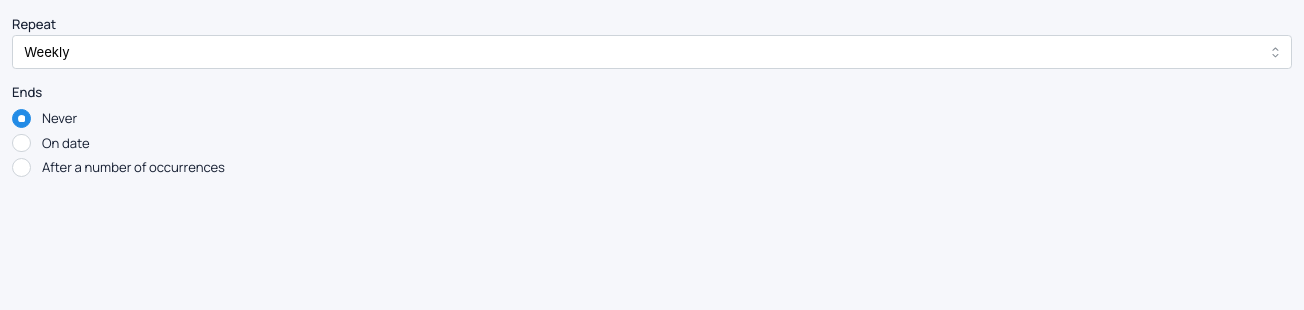
RecurrenceFields › includes Does not repeat by default
This screenshot has width=1304, height=310.
Click the field labelled "Repeat": click(652, 52) 12,35 -> 1292,69
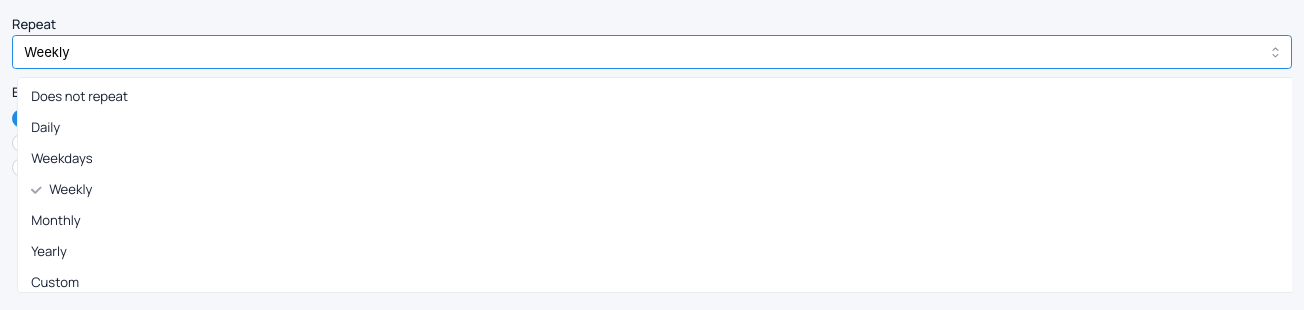
Expected: the option "Does not repeat" is shown, 31,87 -> 128,105
